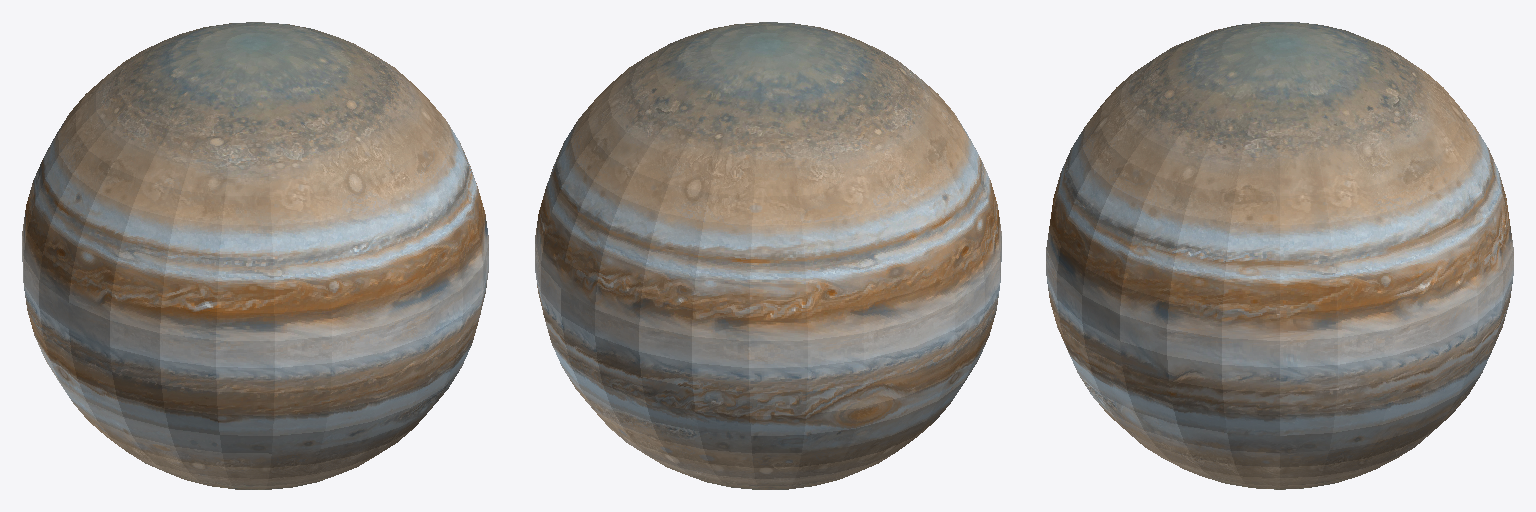
The picture shows the model from 3 angles: view 1: azimuth 30°, elevation 25°; view 2: azimuth 150°, elevation 25°; view 3: azimuth 270°, elevation 25°; orthographic projection.
Visible parts, largest first — view 1: jupiter; view 2: jupiter; view 3: jupiter.
Boxes of the visible parts, x1,y1,x2,y2 form: jupiter: [22, 22, 488, 489]; jupiter: [535, 22, 1001, 489]; jupiter: [1046, 22, 1513, 489].
Size of the model in its own units: 38.71 by 38.94 by 38.78.
1 materials, 1 textured.